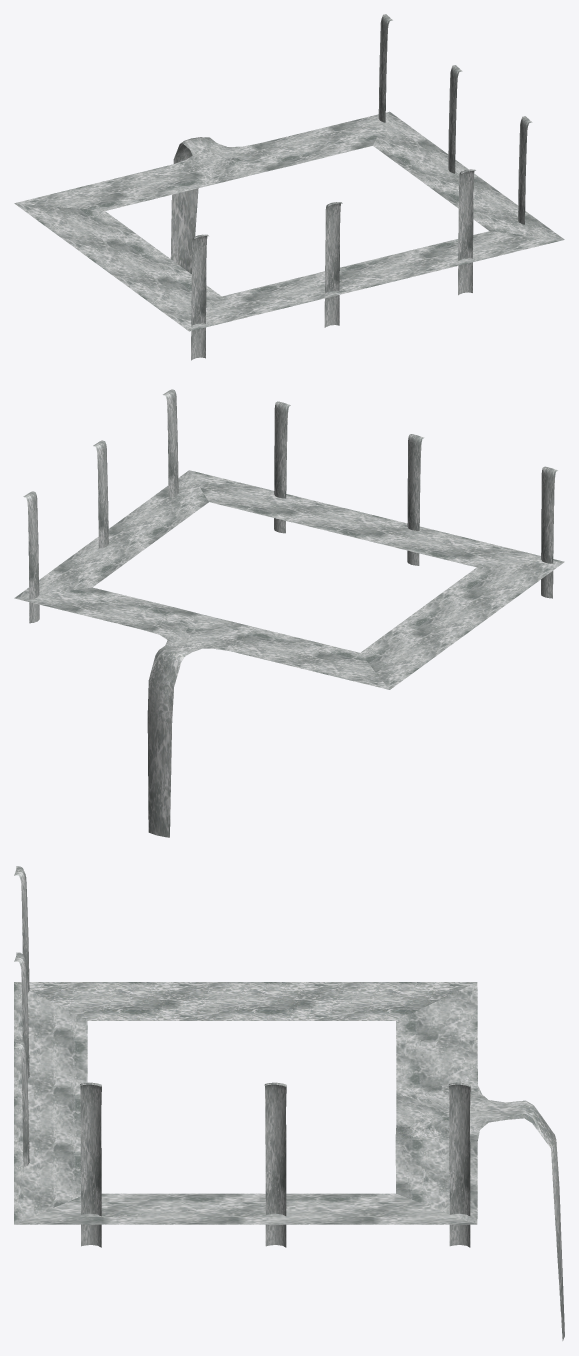
The model's file is Cell2LU_toutie.fbx.
3 renders of one model, top to bottom at view 1: azimuth 30°, elevation 25°; view 2: azimuth 150°, elevation 25°; view 3: azimuth 270°, elevation 25°, orthographic. The views are drawn at different scales.
Visible parts, largest first — view 1: Cell2LU_toutie; view 2: Cell2LU_toutie; view 3: Cell2LU_toutie.
Boxes of the visible parts, bbox=[...] form: Cell2LU_toutie: bbox=[14, 14, 564, 360]; Cell2LU_toutie: bbox=[14, 389, 564, 837]; Cell2LU_toutie: bbox=[14, 866, 564, 1340].
Size of the model in its own units: 25.89 by 17.92 by 24.85.
